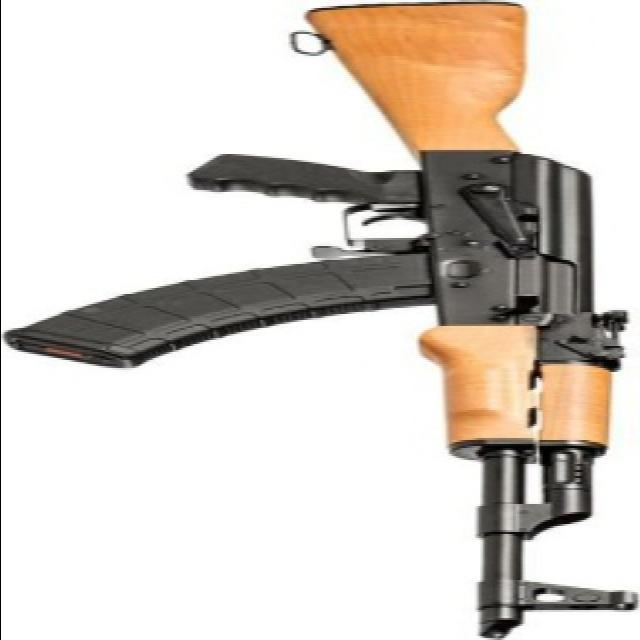rifle: (4, 1, 640, 637)
